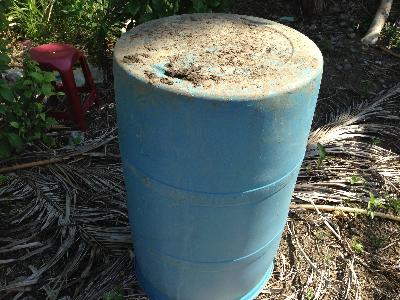bucket: (111, 11, 324, 300)
